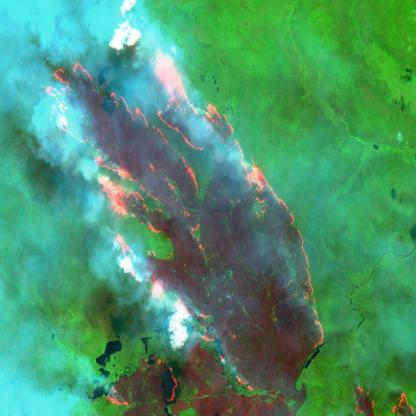fire: (41, 39, 325, 416), (346, 376, 416, 416)
